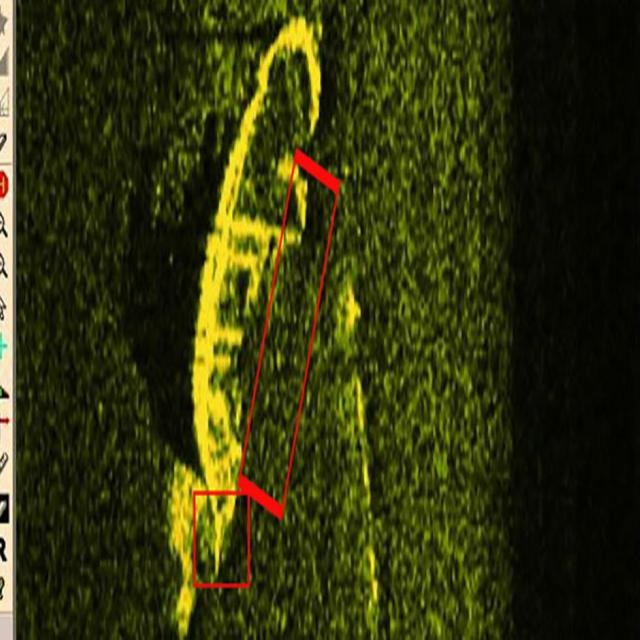ship: (193, 9, 320, 575)
